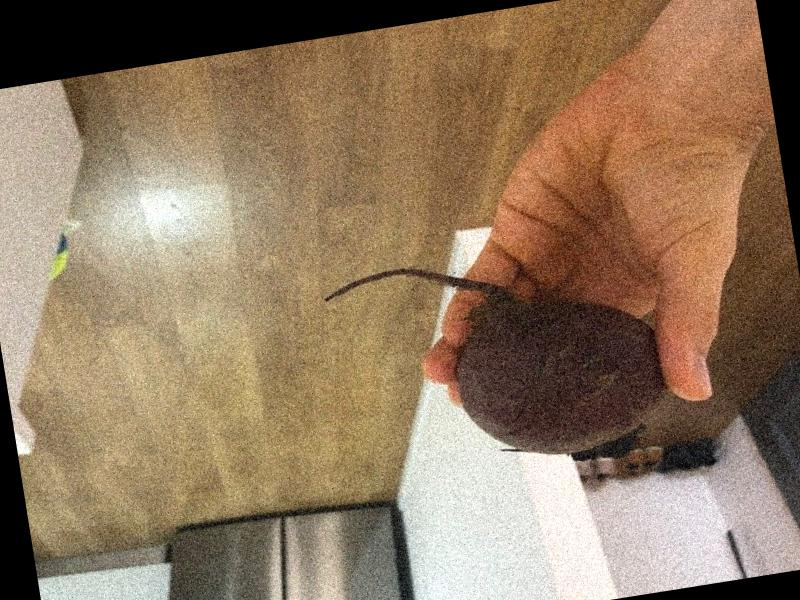Beet: (321, 230, 675, 497)
